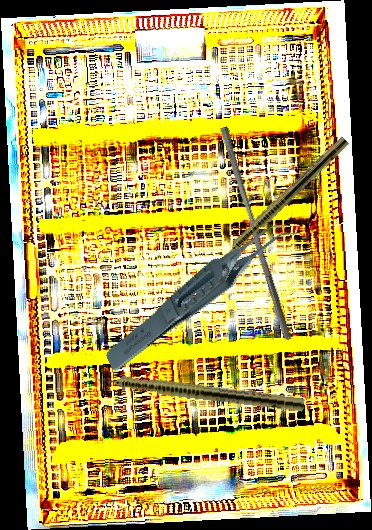Handpiece: (206, 134, 350, 274), (76, 367, 307, 413)
Pusher: (211, 125, 301, 342)
Tissue Forceps: (85, 218, 319, 373)
